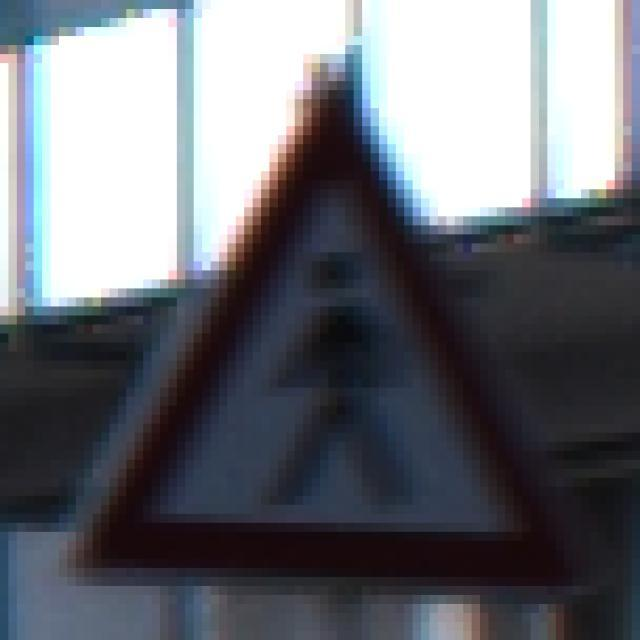pedestrian crossing: (56, 69, 613, 607)
